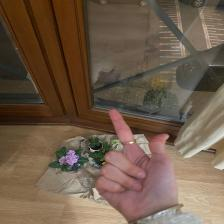five: (95, 108, 180, 210)
